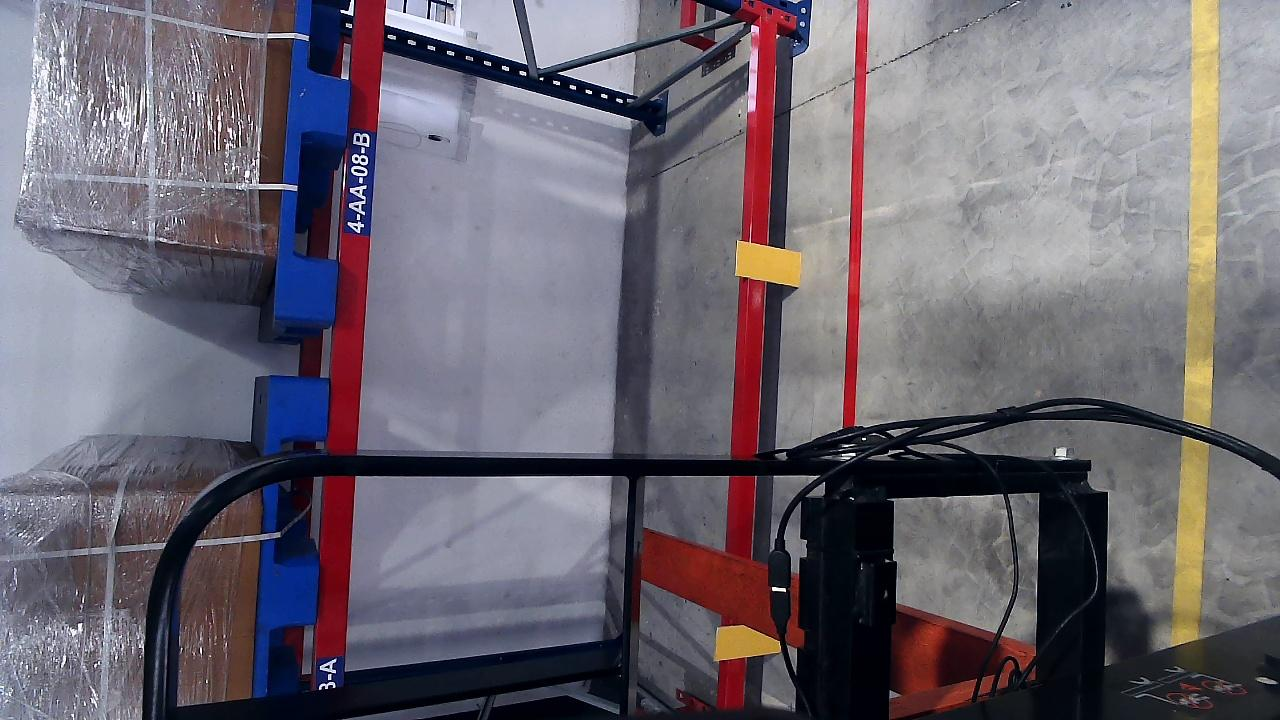h_rack: (726, 10, 784, 712), (322, 1, 381, 685)
orange_strip: (735, 241, 801, 287), (715, 626, 787, 660)
red_line: (840, 2, 869, 431)
small_pallet: (270, 0, 367, 319), (254, 381, 330, 697)
yellow_line: (1168, 0, 1216, 638)
